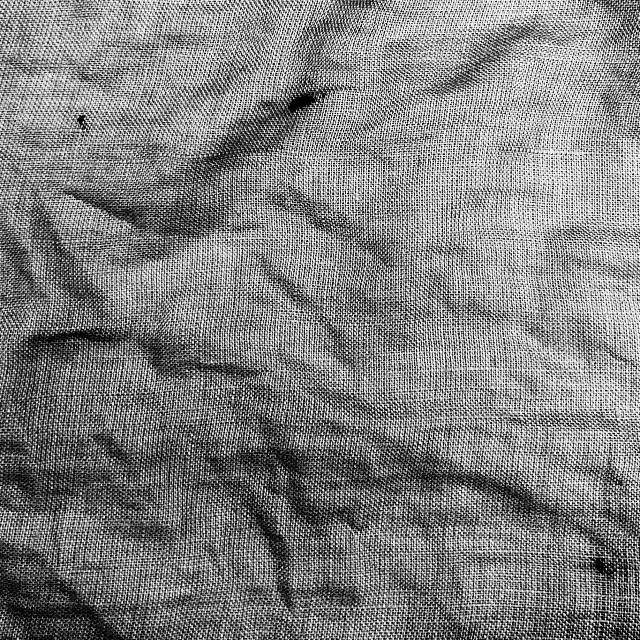Color_defect: (279, 83, 324, 121), (61, 105, 96, 132)
